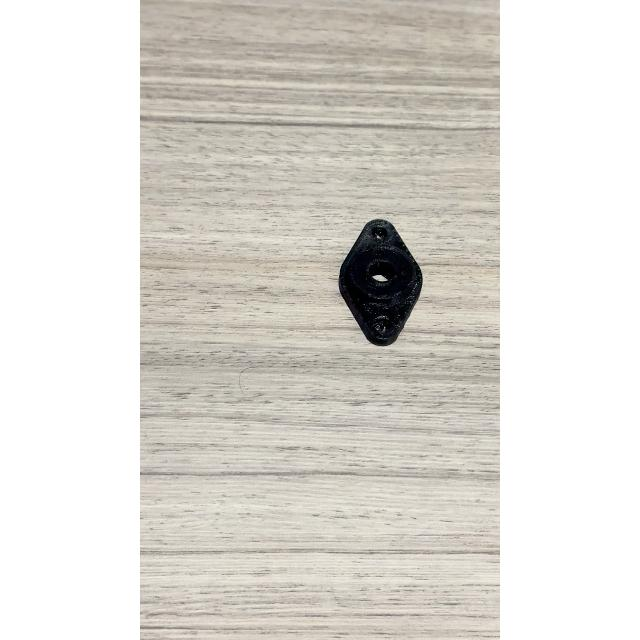Pieza_2: (336, 214, 430, 358)
